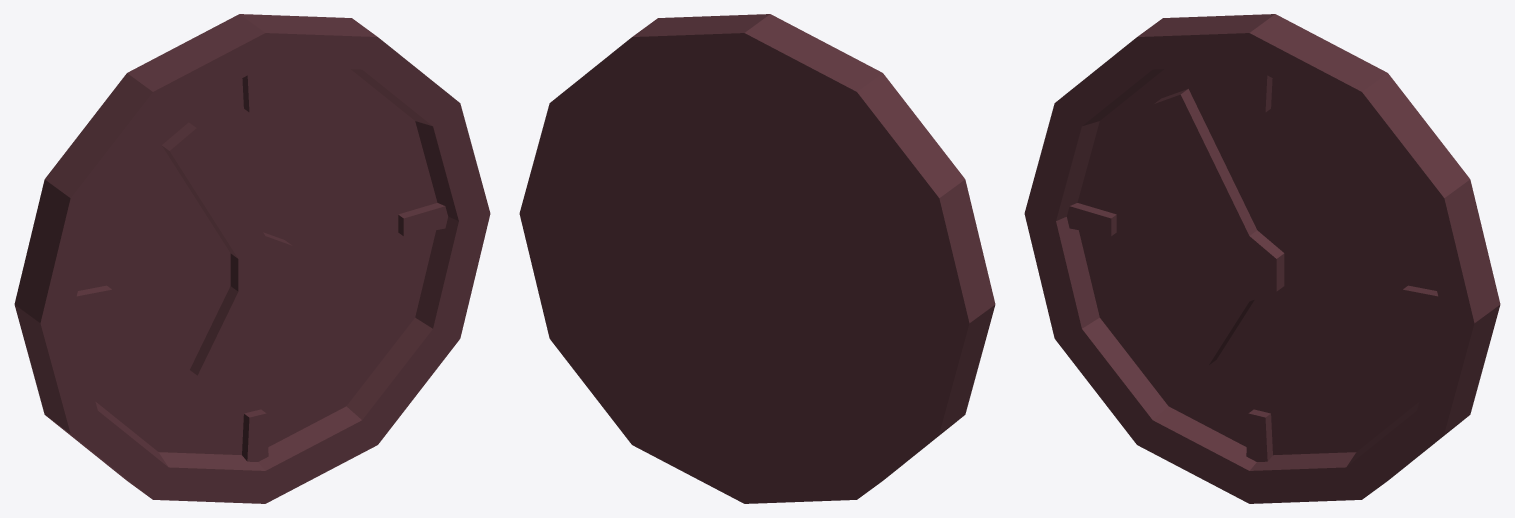
The model's file is furniture-clock-home.glb.
The picture shows the model from 3 angles, left to right: view 1: azimuth 30°, elevation 25°; view 2: azimuth 150°, elevation 25°; view 3: azimuth 330°, elevation 25°; orthographic projection.
Visible parts, largest first — view 1: clock-home; view 2: clock-home; view 3: clock-home.
Part boxes in pixels (x1,y1,x2,y2): clock-home: [14, 14, 490, 503]; clock-home: [519, 14, 995, 503]; clock-home: [1024, 14, 1500, 503].
Size of the model in its own units: 0.33 by 0.33 by 0.033.
